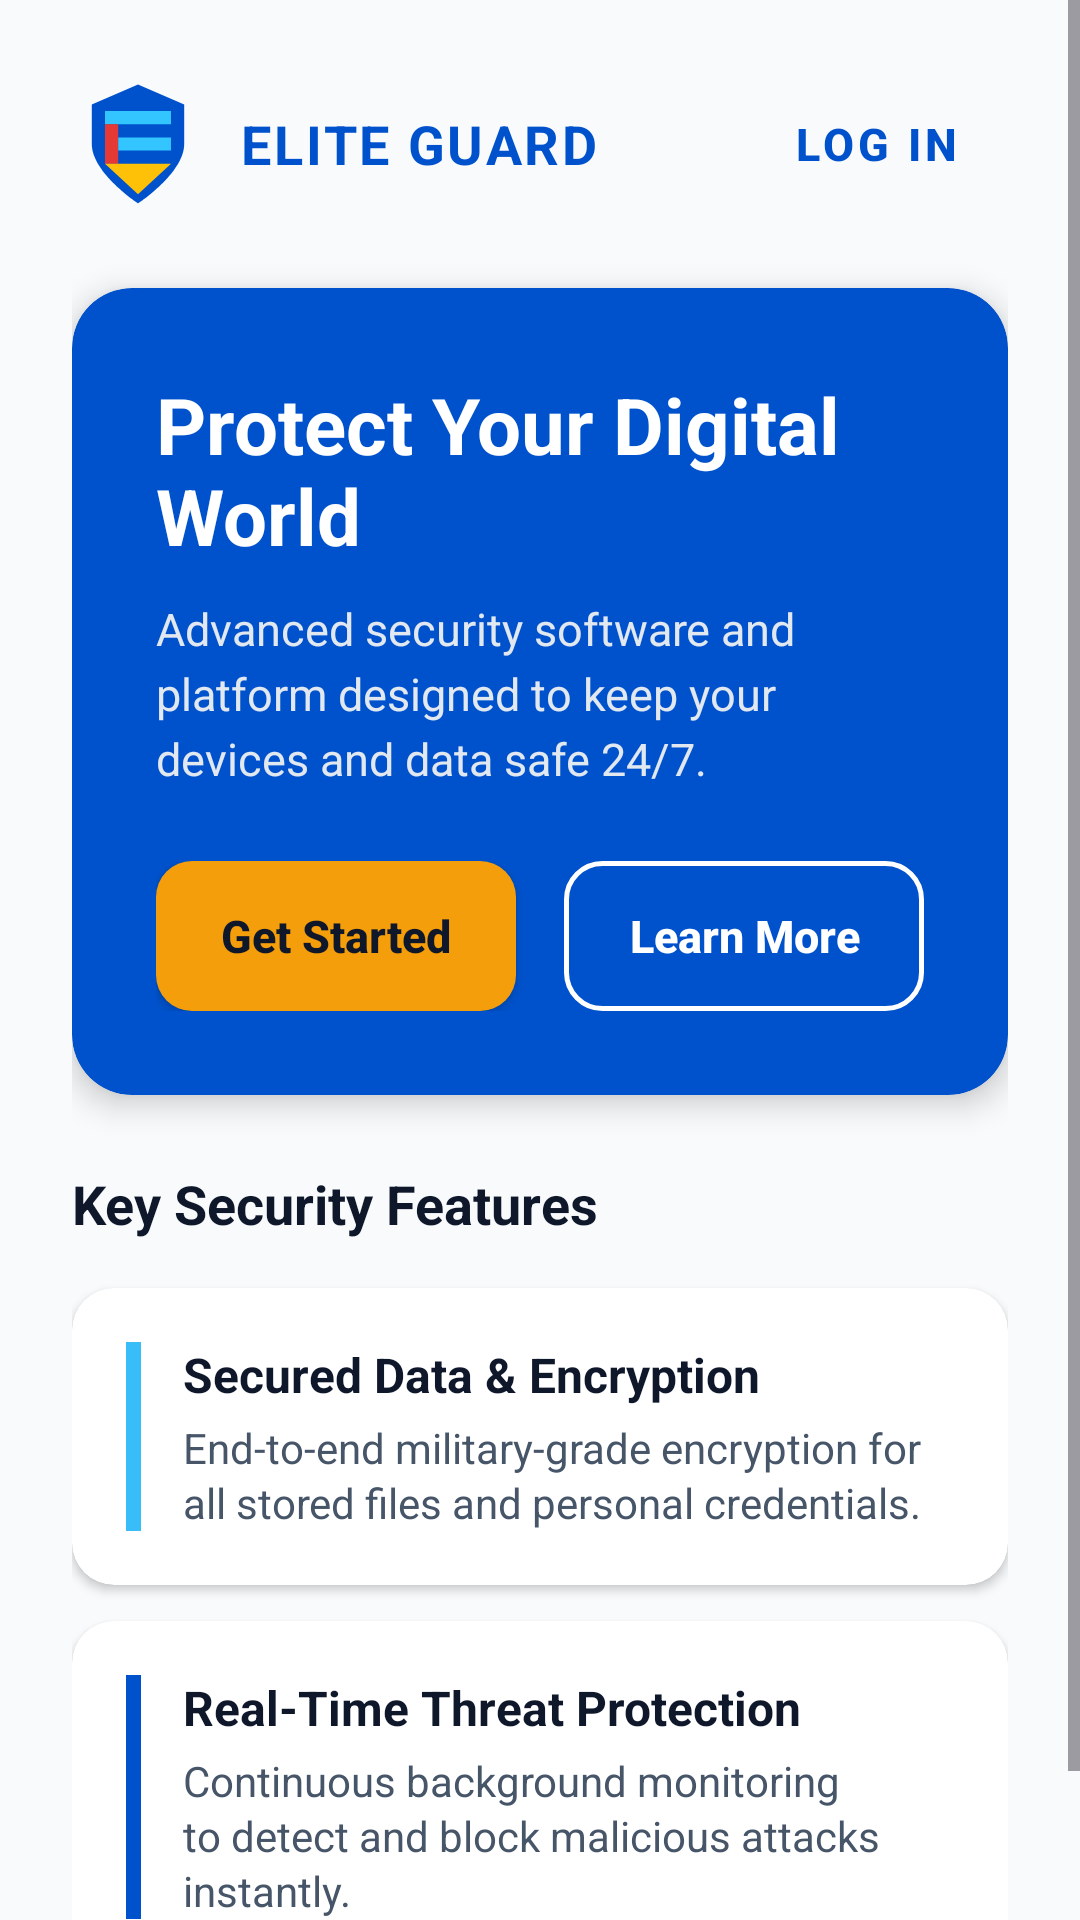

Where to tap for icons on this 1080x1920 app screen, as point (x, y):
custom shield: point (138, 143)
